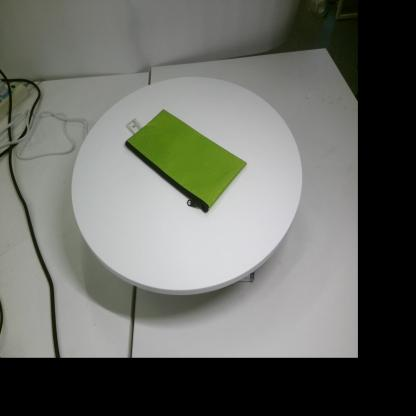Stationery: (125, 109, 247, 212)
